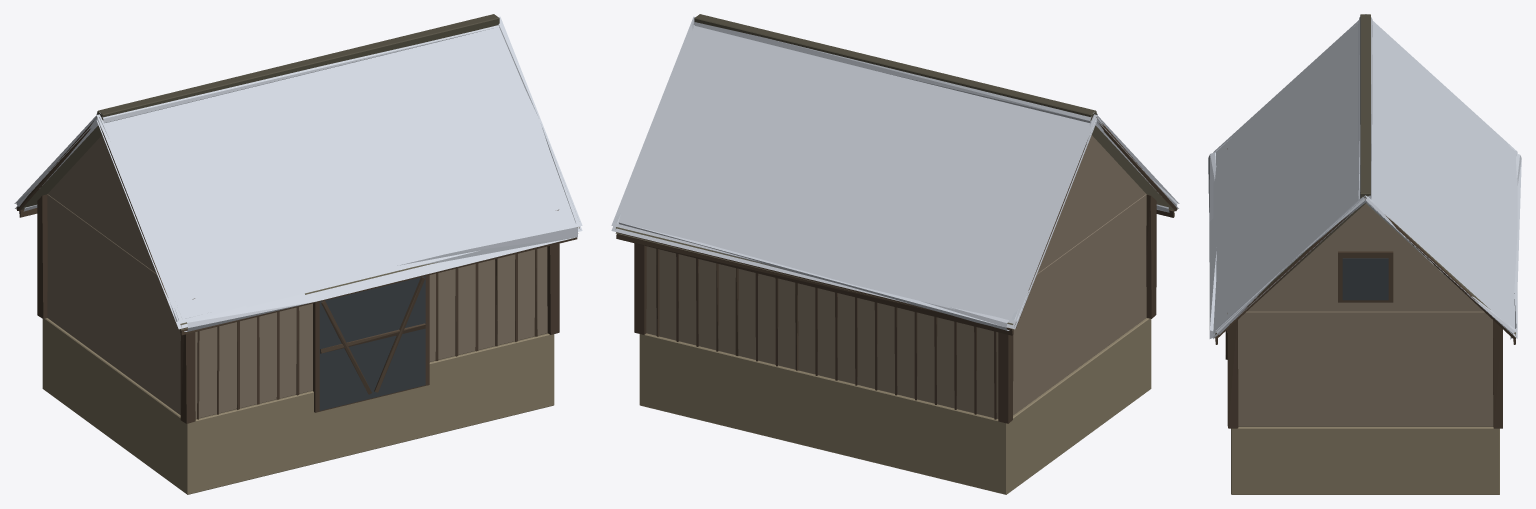
The model's file is barn-snow-lod1.glb.
The picture shows the model from 3 angles, left to right: view 1: azimuth 30°, elevation 25°; view 2: azimuth 150°, elevation 25°; view 3: azimuth 270°, elevation 25°; orthographic projection. The views are drawn at different scales.
Bounding box in the file's own units: 12.2 × 9.62 × 8.86.
